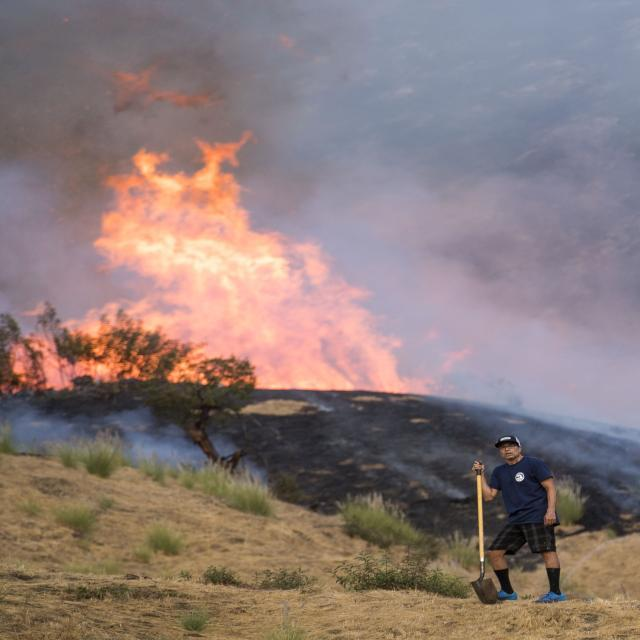Fire: (0, 121, 464, 406), (100, 53, 234, 114)
Smoke: (403, 237, 640, 495), (0, 398, 294, 497), (376, 456, 471, 508)
